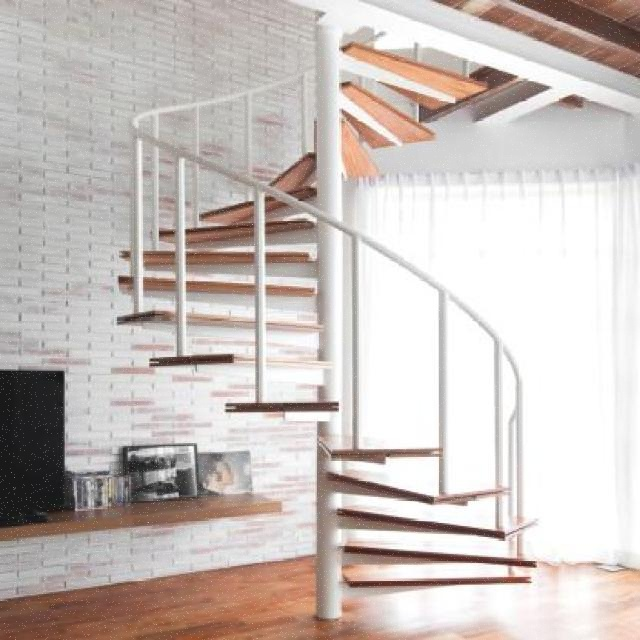stair: (99, 12, 624, 622)
